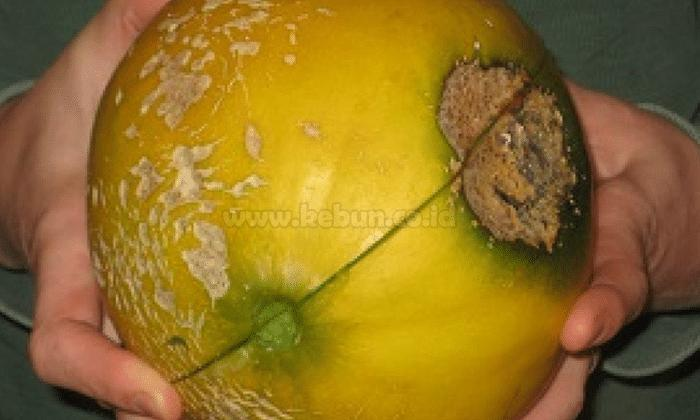Melon Rotten: (88, 0, 594, 419)
